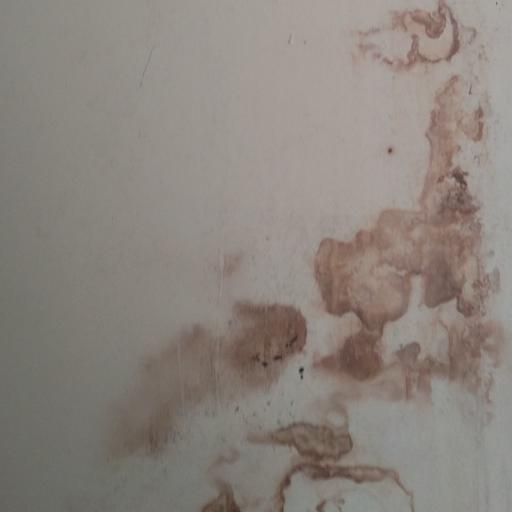stain: (306, 6, 512, 442), (64, 250, 346, 478), (181, 412, 453, 512)
